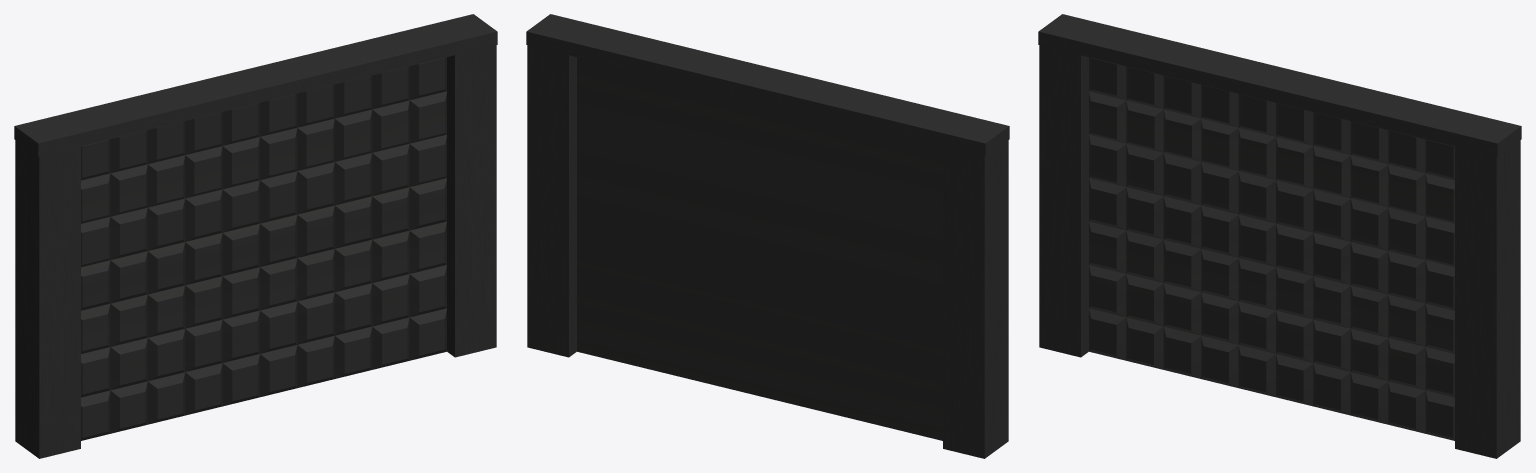
Rendered from Wall.fbx.
3 views of the same model, side by side, from view 1: azimuth 30°, elevation 25°; view 2: azimuth 150°, elevation 25°; view 3: azimuth 330°, elevation 25° (orthographic).
Visible parts, largest first — view 1: Cube; view 2: Cube; view 3: Cube.
Part boxes in pixels (x1=…): Cube: x1=14, y1=14, x2=497, y2=458; Cube: x1=526, y1=14, x2=1009, y2=458; Cube: x1=1038, y1=14, x2=1521, y2=458.
Size of the model in its own units: 22.09 by 14.51 by 2.
Materials: 1 (1 with a texture image).
